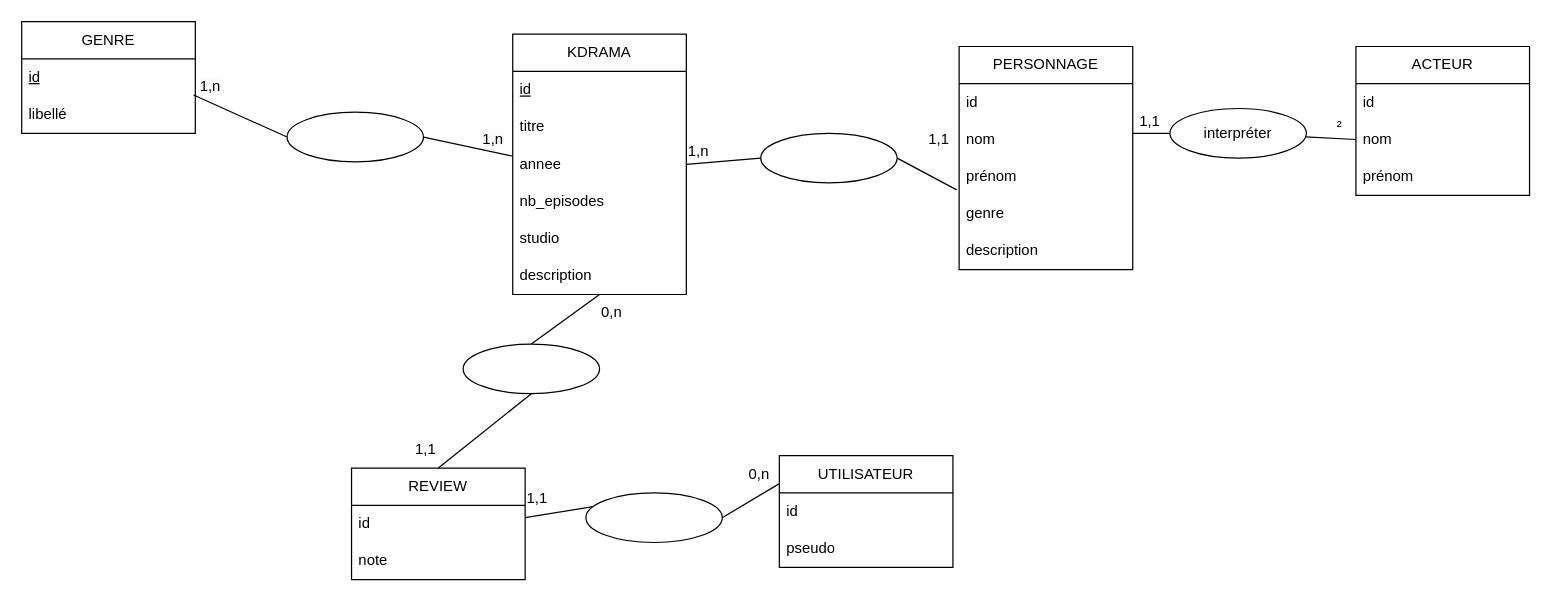
The diagram is 1551 pixels wide and 601 high, and some of its shapes have lost their labels. Each missing label, with the centre of its shape:
avoir: pixel 354 136
jouer: pixel 828 157
noter: pixel 531 368
poster: pixel 653 517
